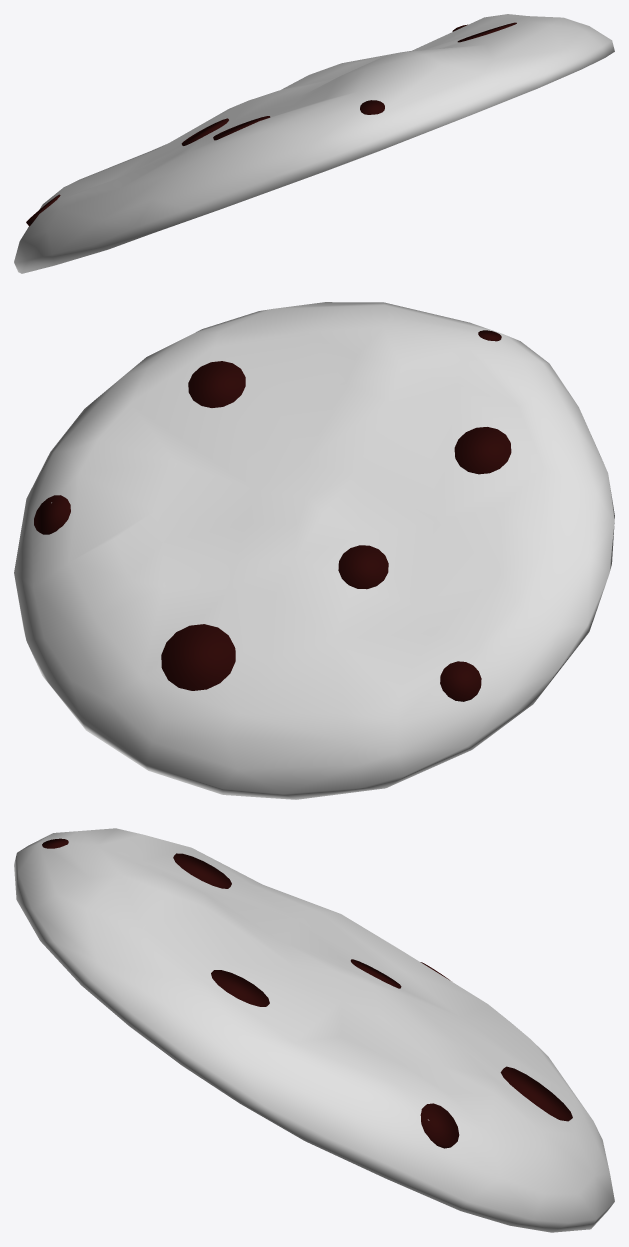
The model's file is 3DCookie.fbx.
3 views of the same model, one above another, from view 1: azimuth 30°, elevation 25°; view 2: azimuth 150°, elevation 25°; view 3: azimuth 270°, elevation 25° (orthographic). The views are drawn at different scales.
Parts seen in each view (by area): view 1: Cylinder, Cylinder.007; view 2: Cylinder, Cylinder.007; view 3: Cylinder, Cylinder.007.
Part boxes in pixels (<box>): Cylinder: <box>14,14,614,273</box>; Cylinder.007: <box>26,22,516,226</box>; Cylinder: <box>14,302,614,799</box>; Cylinder.007: <box>34,330,511,701</box>; Cylinder: <box>14,828,614,1232</box>; Cylinder.007: <box>42,838,572,1148</box>.
Bounding box in the file's own units: 12.4 × 6.79 × 11.03.
